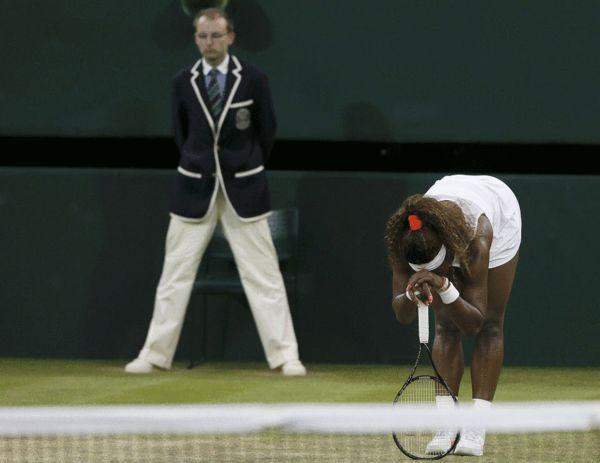bending: (373, 173, 527, 463)
up: (142, 10, 312, 379)
